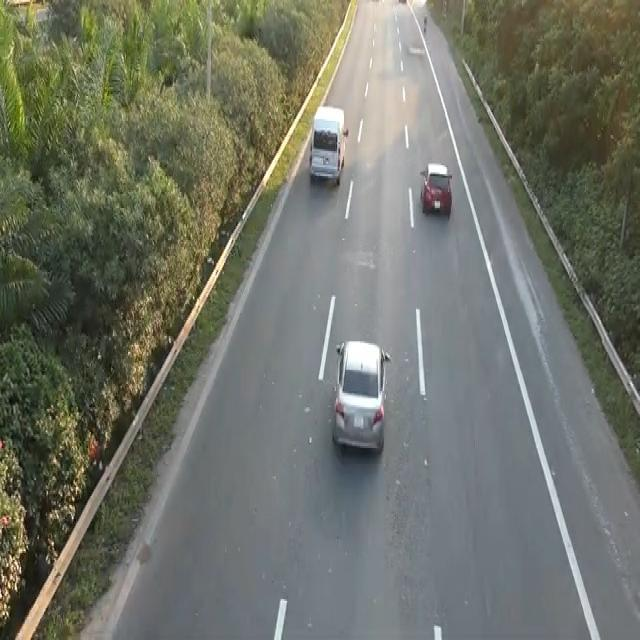bus: (329, 334, 393, 462), (418, 160, 453, 217)
jeep: (307, 101, 349, 187)
